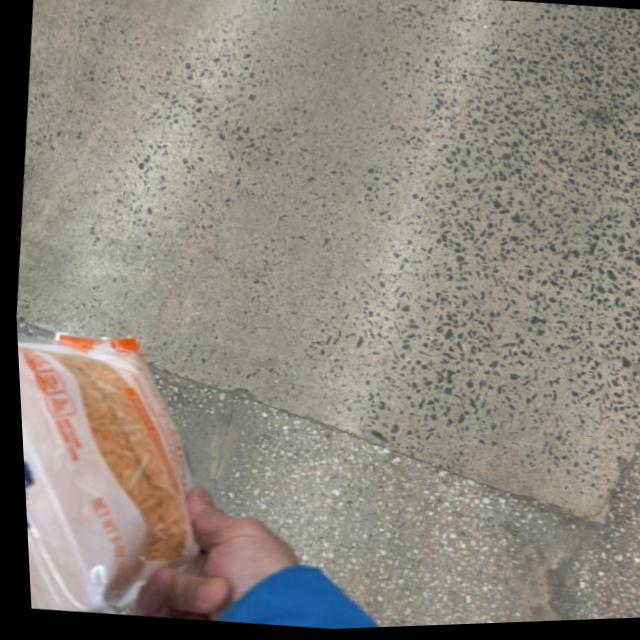Cheese: (13, 318, 245, 628)
